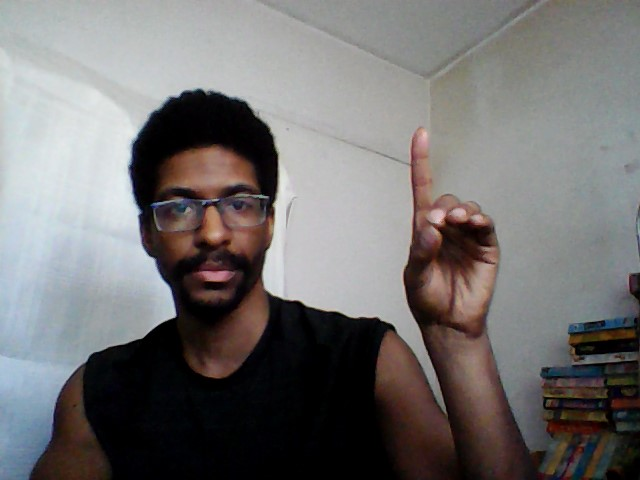d: (399, 121, 504, 338)
